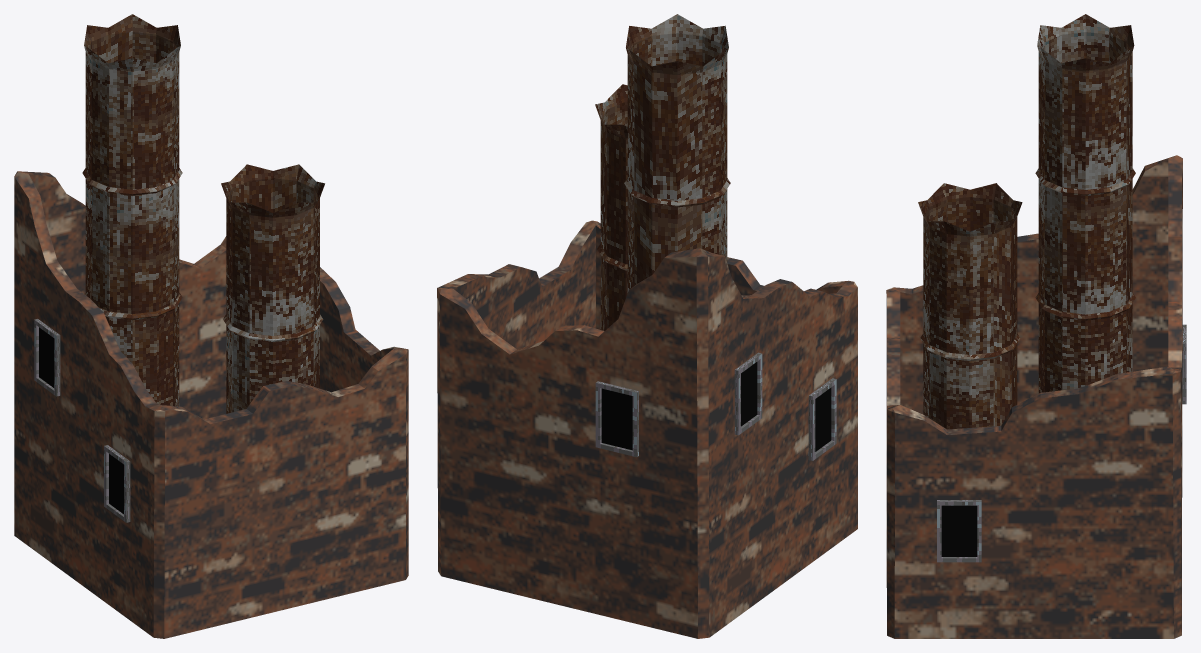
File: building_1.fbx
3 renders of one model, left to right at view 1: azimuth 30°, elevation 25°; view 2: azimuth 150°, elevation 25°; view 3: azimuth 270°, elevation 25°, orthographic. The views are drawn at different scales.
Visible parts, largest first — view 1: main, pipe.002, pipe.003, Cube.002, Cube.003; view 2: main, pipe.002, pipe.003, Cube.004, Cube.002, Cube.003; view 3: main, pipe.002, pipe.003, Cube.005.
Part boxes in pixels (left/top/right/bottom): main: left=14, top=171, right=408, bottom=638; pipe.002: left=82, top=14, right=182, bottom=406; pipe.003: left=221, top=164, right=324, bottom=413; Cube.002: left=104, top=445, right=130, bottom=522; Cube.003: left=34, top=319, right=60, bottom=396; main: left=437, top=220, right=857, bottom=638; pipe.002: left=624, top=14, right=730, bottom=292; pipe.003: left=595, top=84, right=627, bottom=330; Cube.004: left=595, top=381, right=638, bottom=457; Cube.002: left=808, top=378, right=836, bottom=460; Cube.003: left=734, top=352, right=762, bottom=435; main: left=886, top=155, right=1182, bottom=638; pipe.002: left=1035, top=14, right=1135, bottom=393; pipe.003: left=918, top=183, right=1022, bottom=429; Cube.005: left=937, top=500, right=981, bottom=562.
Size of the model in its own units: 1357 by 2540 by 1343.
4 materials, 3 textured.
